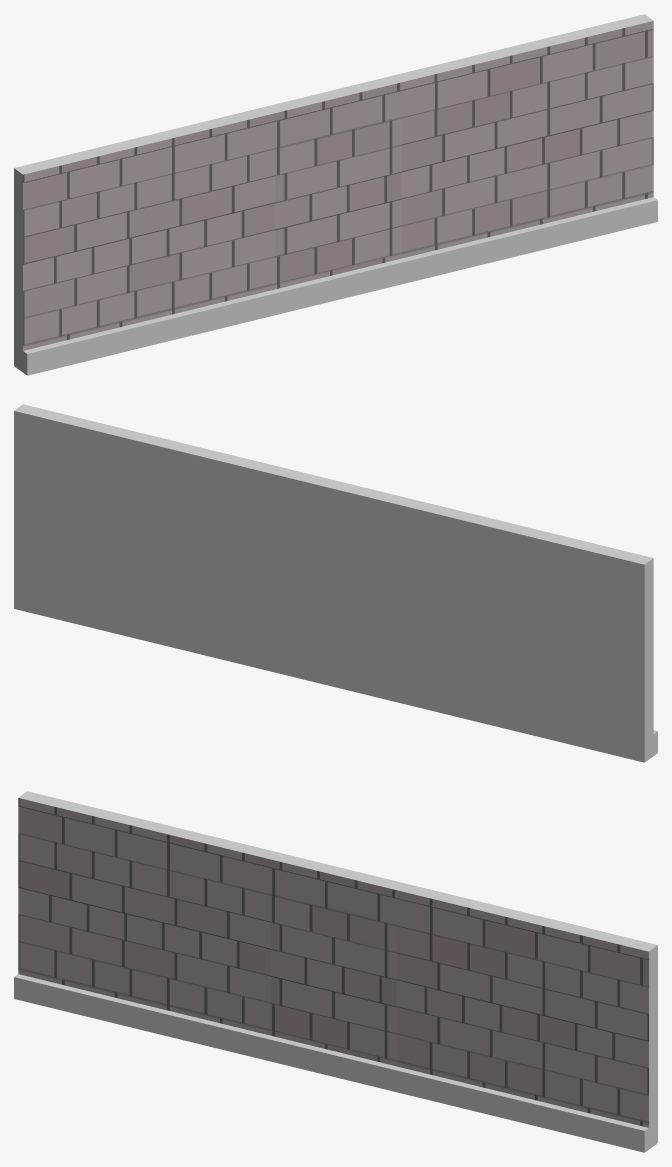
The model's file is BasicINTwall.fbx.
3 renders of one model, top to bottom at view 1: azimuth 30°, elevation 25°; view 2: azimuth 150°, elevation 25°; view 3: azimuth 330°, elevation 25°, orthographic.
Parts seen in each view (by area): view 1: Door.004; view 2: Door.004; view 3: Door.004.
Part boxes in pixels (box(x1,y1,x2,y2)): Door.004: box(14, 14, 657, 375); Door.004: box(14, 404, 657, 762); Door.004: box(14, 791, 657, 1152).
Size of the model in its own units: 1000 by 300 by 36.47.
